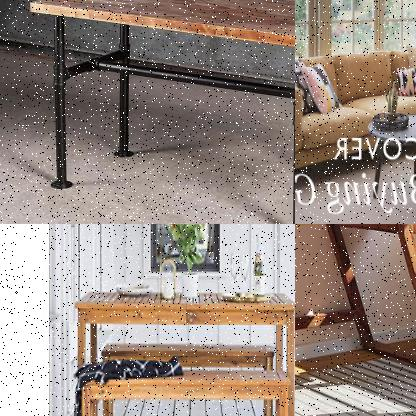table: (24, 0, 294, 223), (68, 281, 294, 415), (295, 224, 415, 415), (365, 110, 415, 220)
